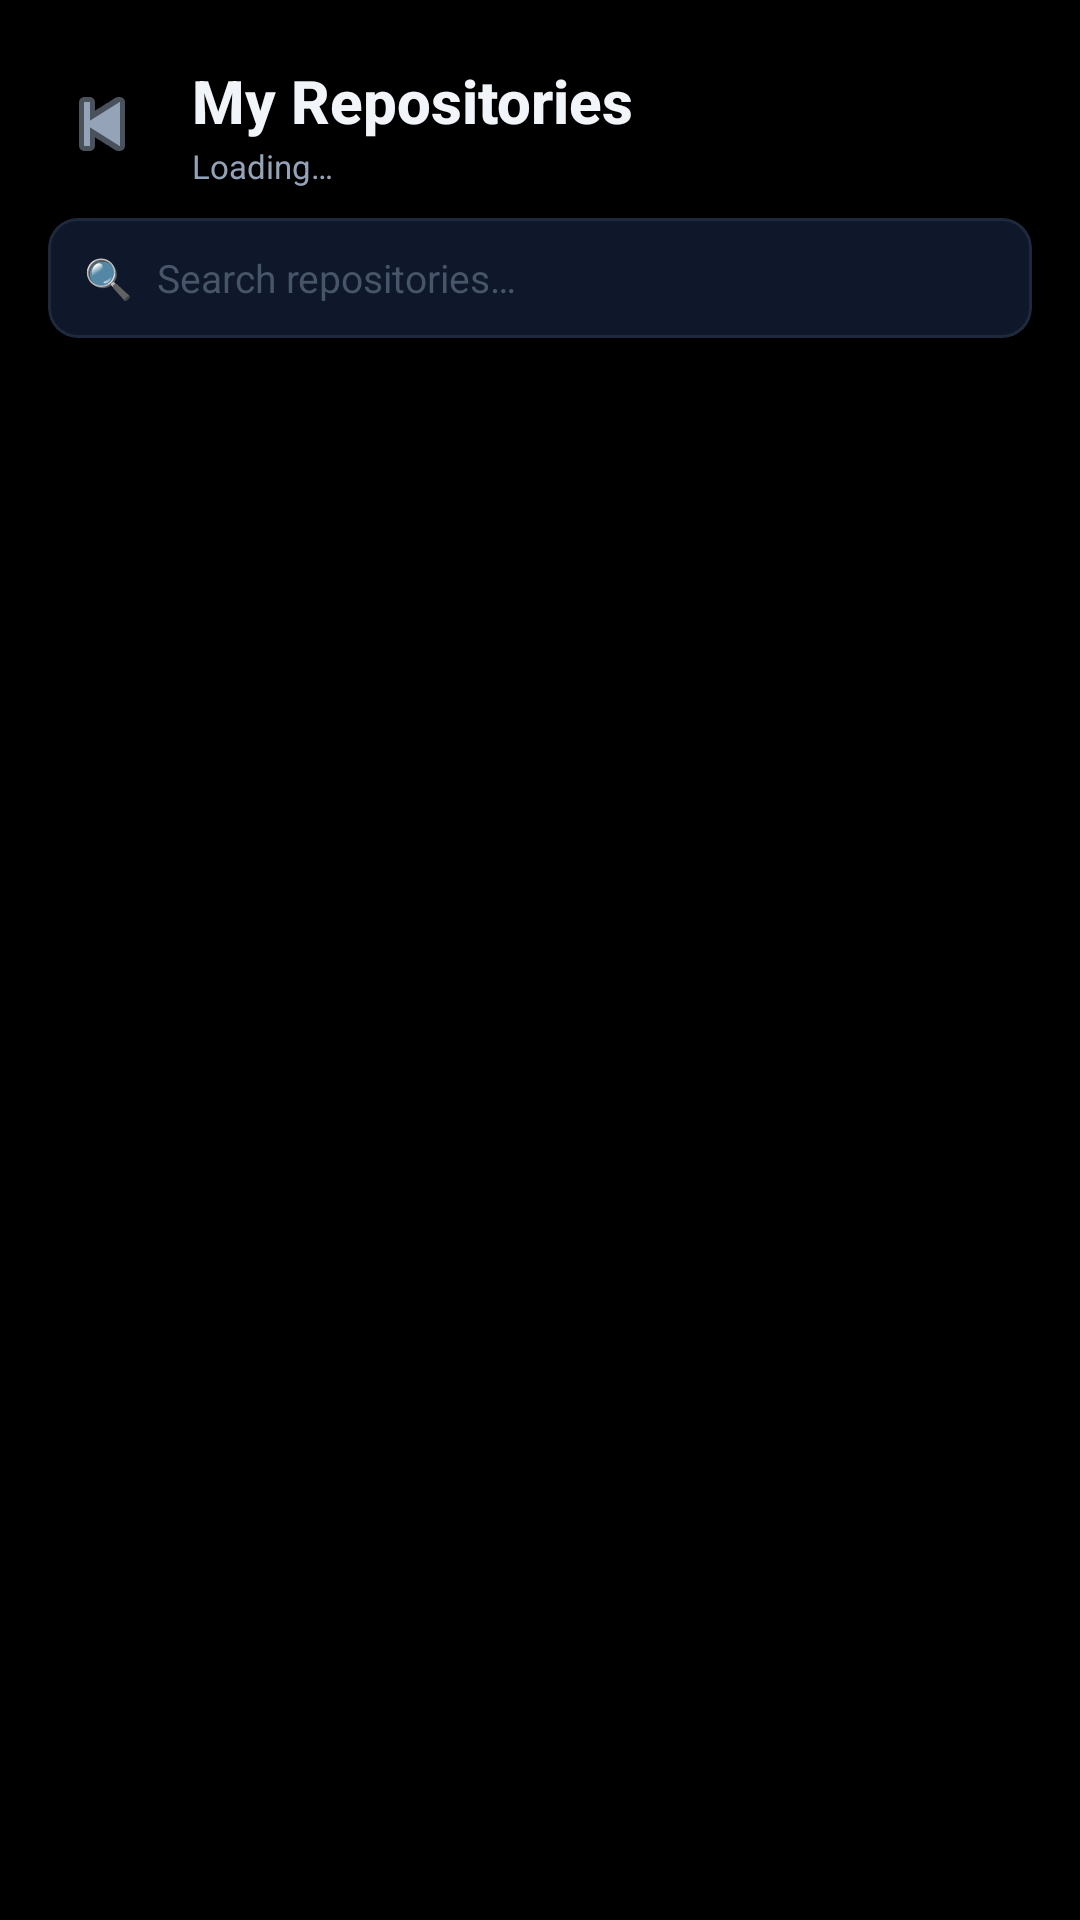

Icons on this 1080x1920 Android screen, each with its box as rect(x1, y1, x2, y2):
Back: rect(79, 97, 125, 151)
